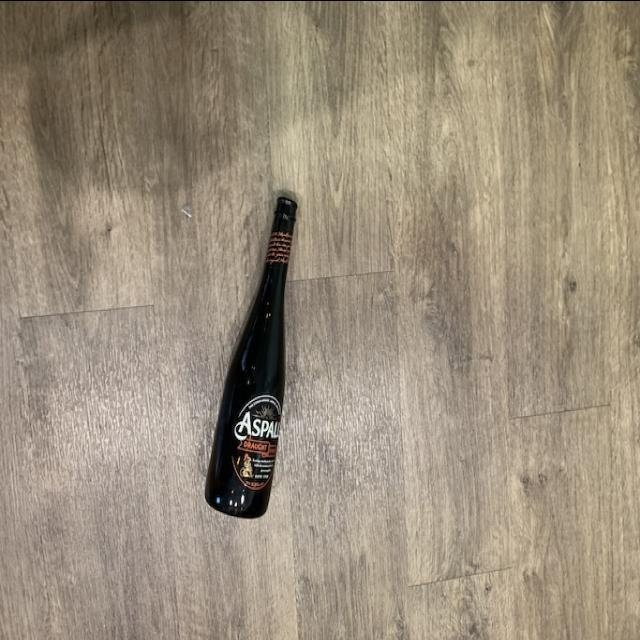Glass Bottle: (202, 192, 302, 524)
